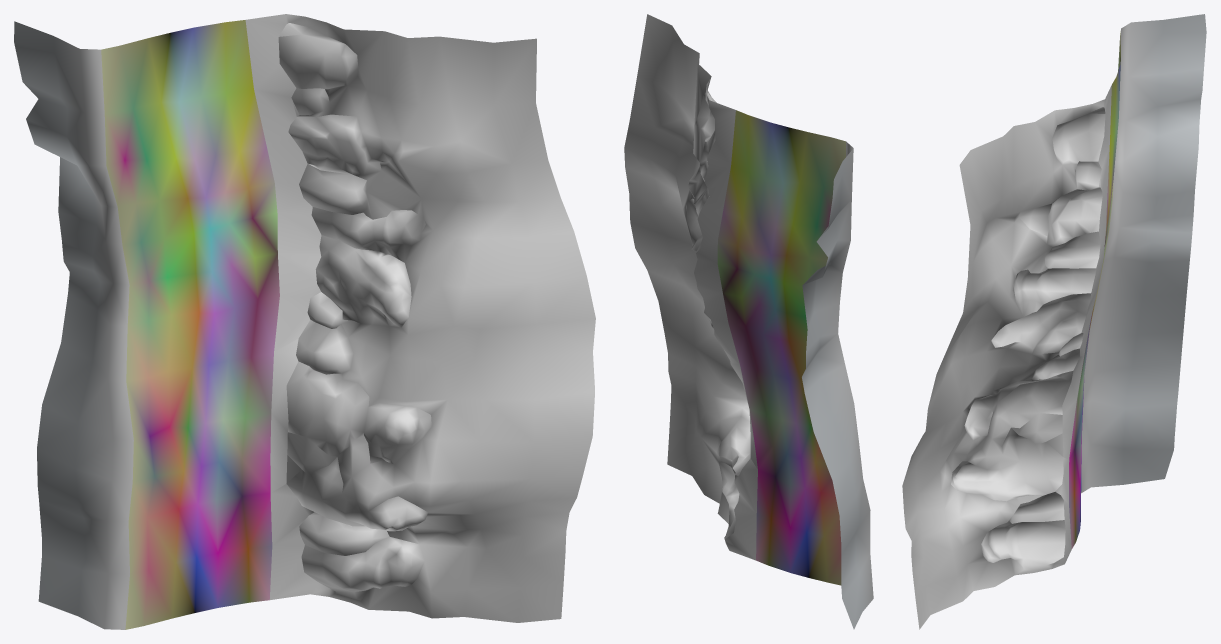
The model's file is Volcano_RampStraightB.glb.
The picture shows the model from 3 angles, left to right: view 1: azimuth 30°, elevation 25°; view 2: azimuth 150°, elevation 25°; view 3: azimuth 270°, elevation 25°; orthographic projection. The views are drawn at different scales.
Visible parts, largest first — view 1: MeshNode_0, MeshNode_1; view 2: MeshNode_0, MeshNode_1; view 3: MeshNode_0, MeshNode_1.
Part boxes in pixels (box(x1,y1,x2,y2)): MeshNode_0: box(14, 14, 595, 629); MeshNode_1: box(101, 20, 279, 629); MeshNode_0: box(624, 14, 873, 629); MeshNode_1: box(717, 110, 845, 585); MeshNode_0: box(902, 14, 1206, 629); MeshNode_1: box(1069, 31, 1120, 548).
Size of the model in its own units: 98.55 by 128 by 75.89.
